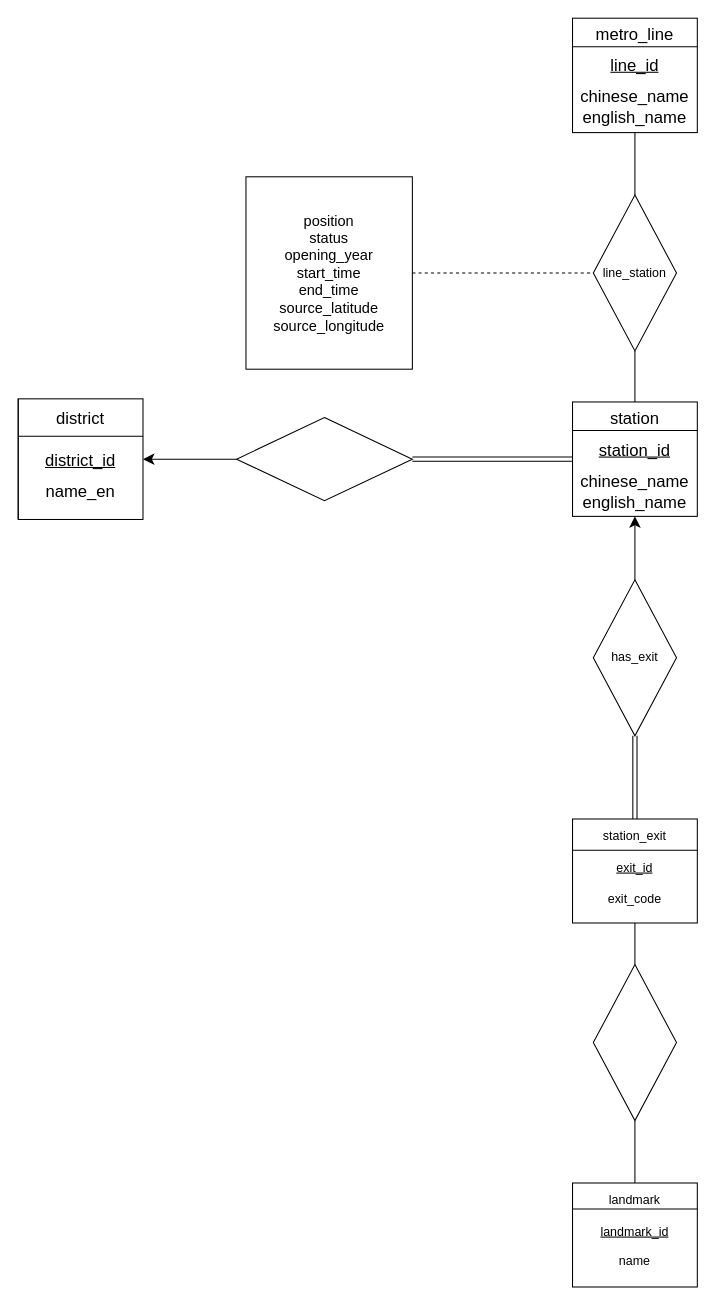
Image size: 717x1305. Some labels were removed from this diagram. The shapes that lost their labels are listed below. From the top down, each one's box as (x1, y1, x2, y2) in pixels, then its label:
(236, 417, 412, 501): contains
(592, 964, 677, 1121): exit_landmark
